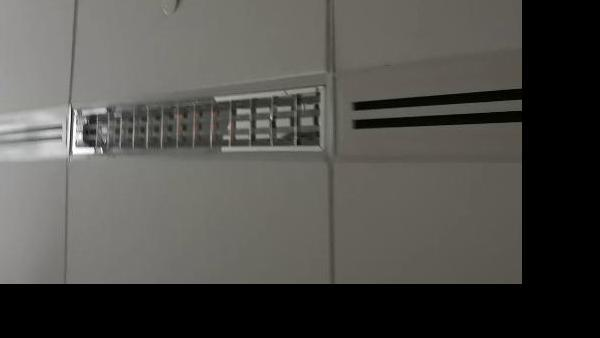light_off: (65, 64, 341, 178)
